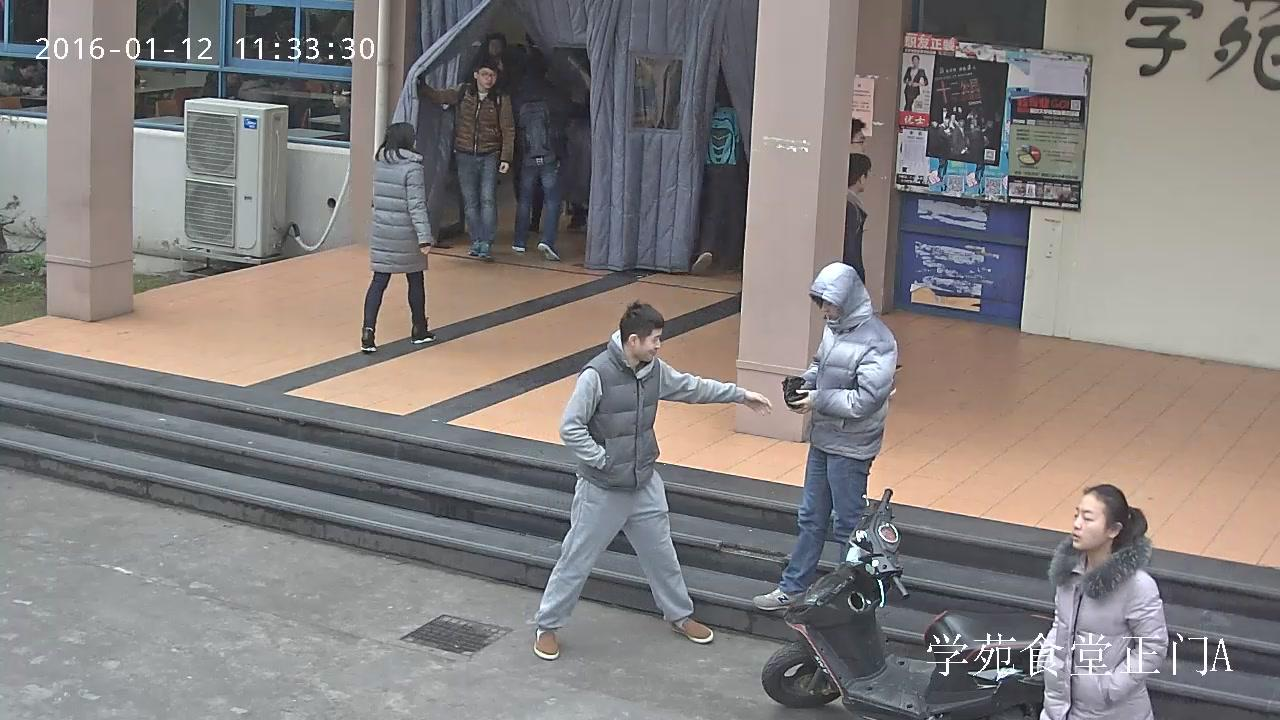person: (533, 303, 772, 660), (752, 260, 898, 610), (1039, 484, 1168, 720), (417, 60, 515, 260), (359, 122, 436, 354), (689, 74, 745, 276), (511, 74, 564, 259), (842, 152, 871, 285), (465, 30, 516, 99), (0, 55, 43, 98), (902, 54, 927, 110)
